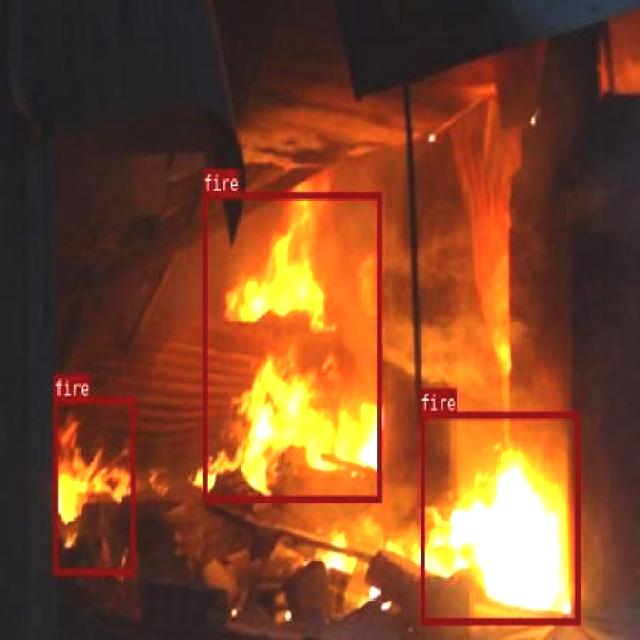fire: (202, 190, 382, 502), (419, 411, 579, 624), (53, 396, 135, 575)
